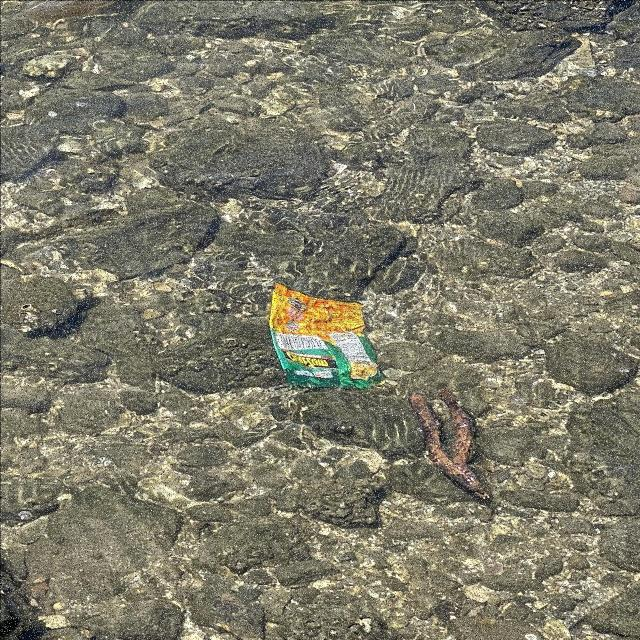plastic_waste: (266, 281, 386, 387)
